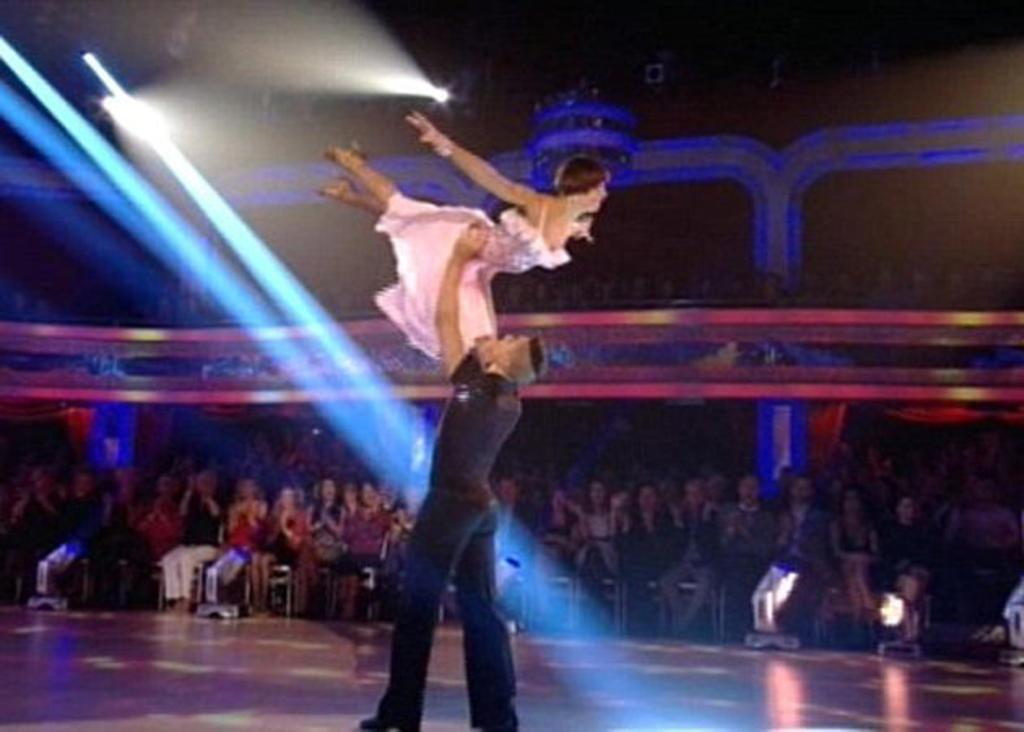face: (476, 332, 526, 366), (574, 174, 606, 210), (974, 481, 995, 506), (739, 478, 759, 504), (900, 499, 918, 522), (686, 482, 703, 505), (792, 478, 809, 499), (844, 490, 860, 512), (639, 488, 655, 509), (500, 480, 515, 500), (199, 473, 214, 493), (590, 483, 604, 504), (361, 484, 375, 505), (77, 475, 91, 496), (553, 492, 566, 510), (322, 480, 335, 498), (161, 477, 174, 495), (34, 472, 47, 490), (238, 480, 251, 497), (283, 490, 295, 508), (345, 484, 357, 501)
